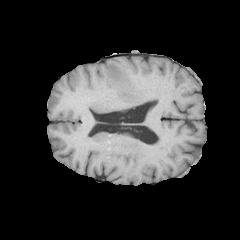glioma: (103, 62, 138, 104)
